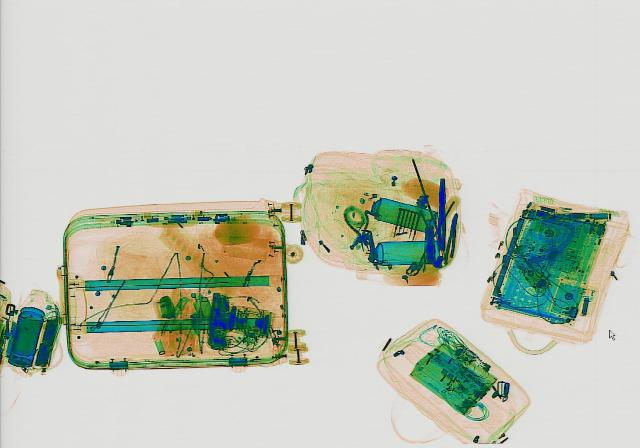Pliers: (442, 211, 458, 265)
